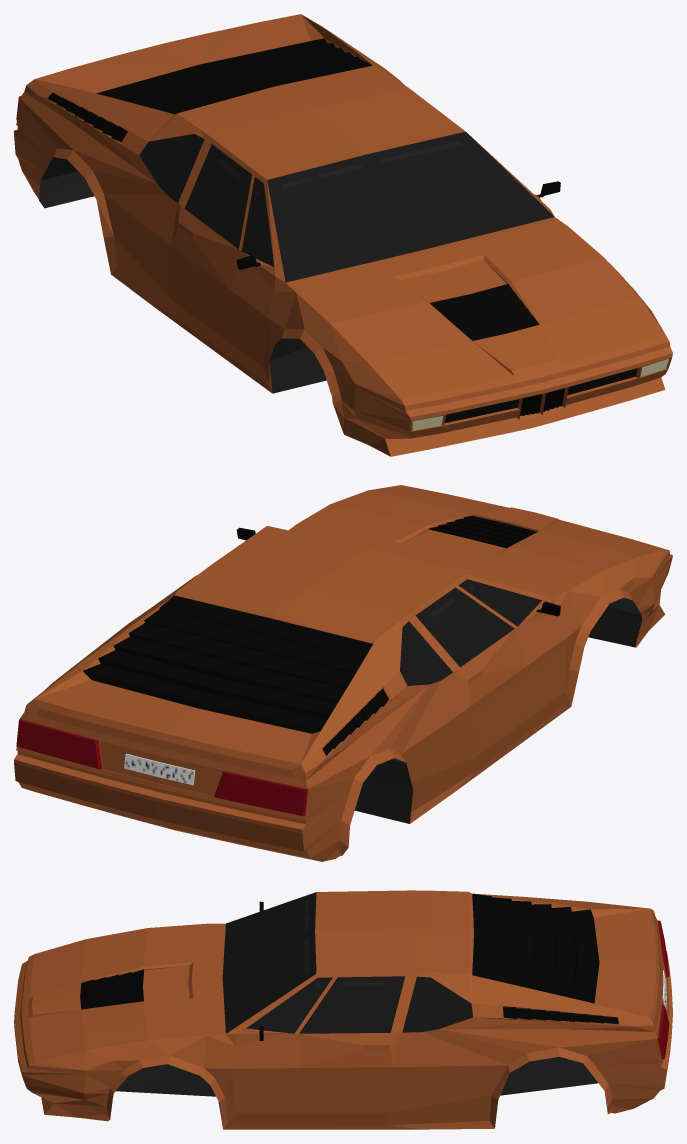
File: bmw m1.fbx
The picture shows the model from 3 angles, top to bottom: view 1: azimuth 30°, elevation 25°; view 2: azimuth 150°, elevation 25°; view 3: azimuth 270°, elevation 25°; orthographic projection. The views are drawn at different scales.
Visible parts, largest first — view 1: bmw m1 mesh; view 2: bmw m1 mesh; view 3: bmw m1 mesh.
Boxes of the visible parts, x1,y1,x2,y2 form: bmw m1 mesh: (14, 14, 672, 456); bmw m1 mesh: (14, 485, 672, 861); bmw m1 mesh: (14, 890, 672, 1129).
Bounding box in the file's own units: 3.03 × 1.48 × 6.35.
